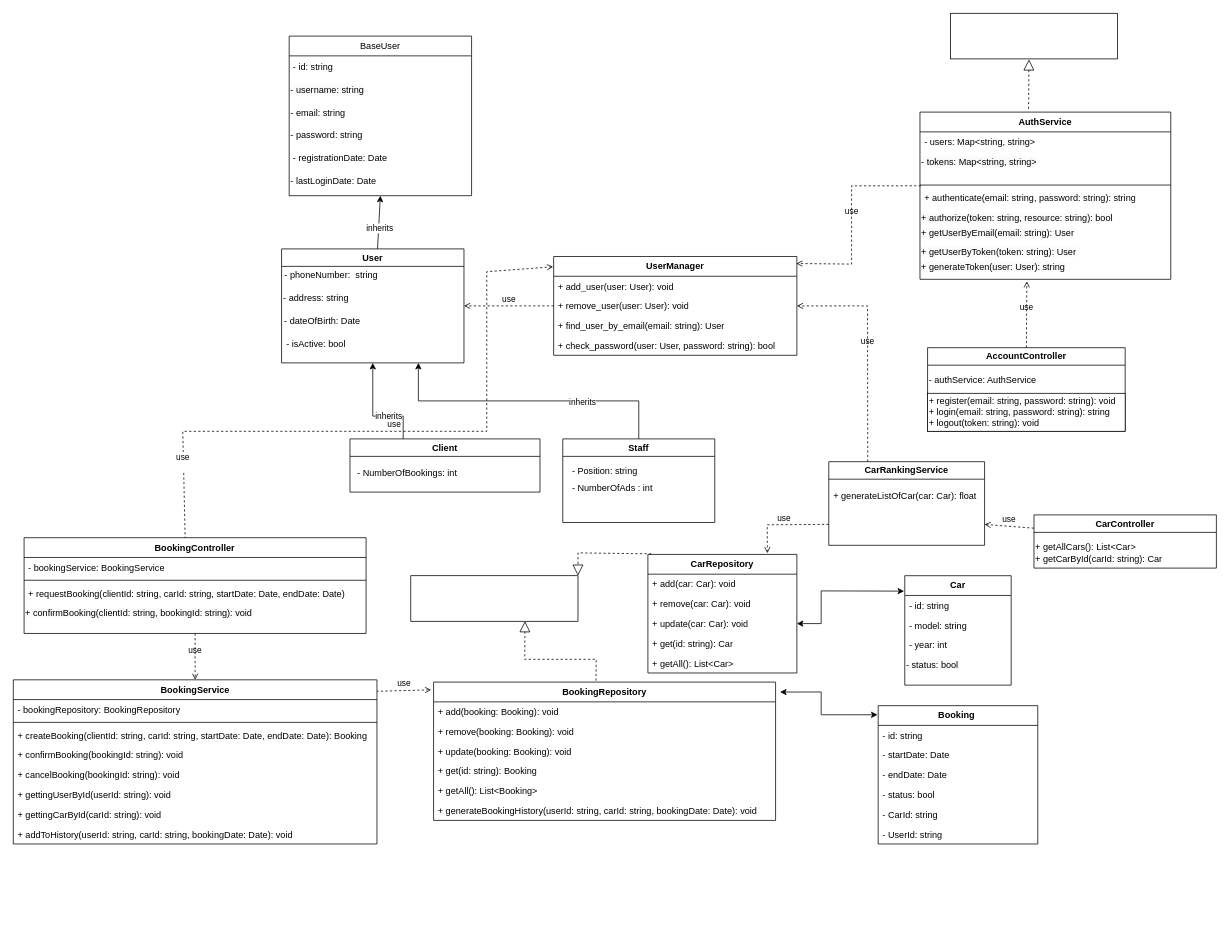
This 1230x950 diagram has some shape labels left out. Here are the shapes that lost their labels. From the top down, the centre of each, then its label:
point (1034, 36): "interface" IBaseAuthService
point (494, 598): "interface" IBaseRepository
